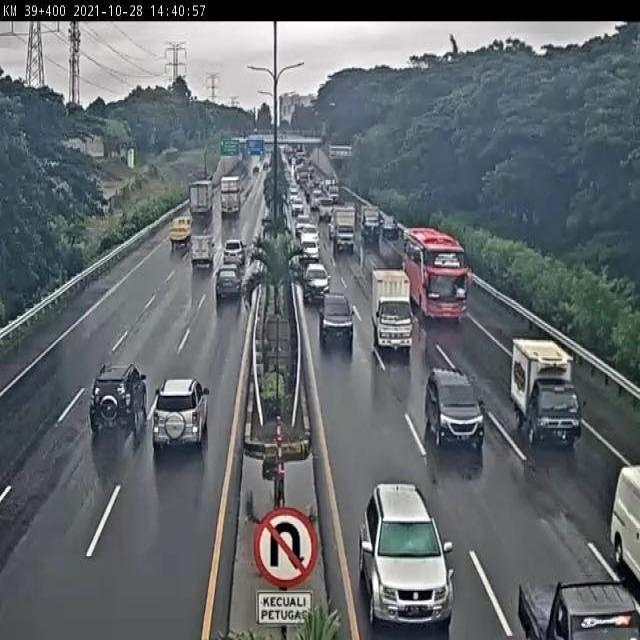Bus: (403, 228, 468, 324)
Car: (360, 482, 454, 627), (425, 368, 486, 452), (86, 364, 150, 438), (151, 376, 211, 450), (319, 292, 355, 352), (302, 262, 330, 303), (216, 267, 242, 300), (223, 239, 247, 266), (297, 222, 318, 250), (381, 214, 400, 240), (290, 195, 304, 218), (311, 191, 324, 210)
Truck: (511, 339, 581, 448), (370, 269, 412, 357), (332, 206, 356, 253), (190, 179, 214, 220), (190, 234, 215, 271), (220, 176, 241, 217), (169, 216, 192, 248), (362, 207, 382, 243), (317, 198, 334, 221), (328, 184, 340, 204)
